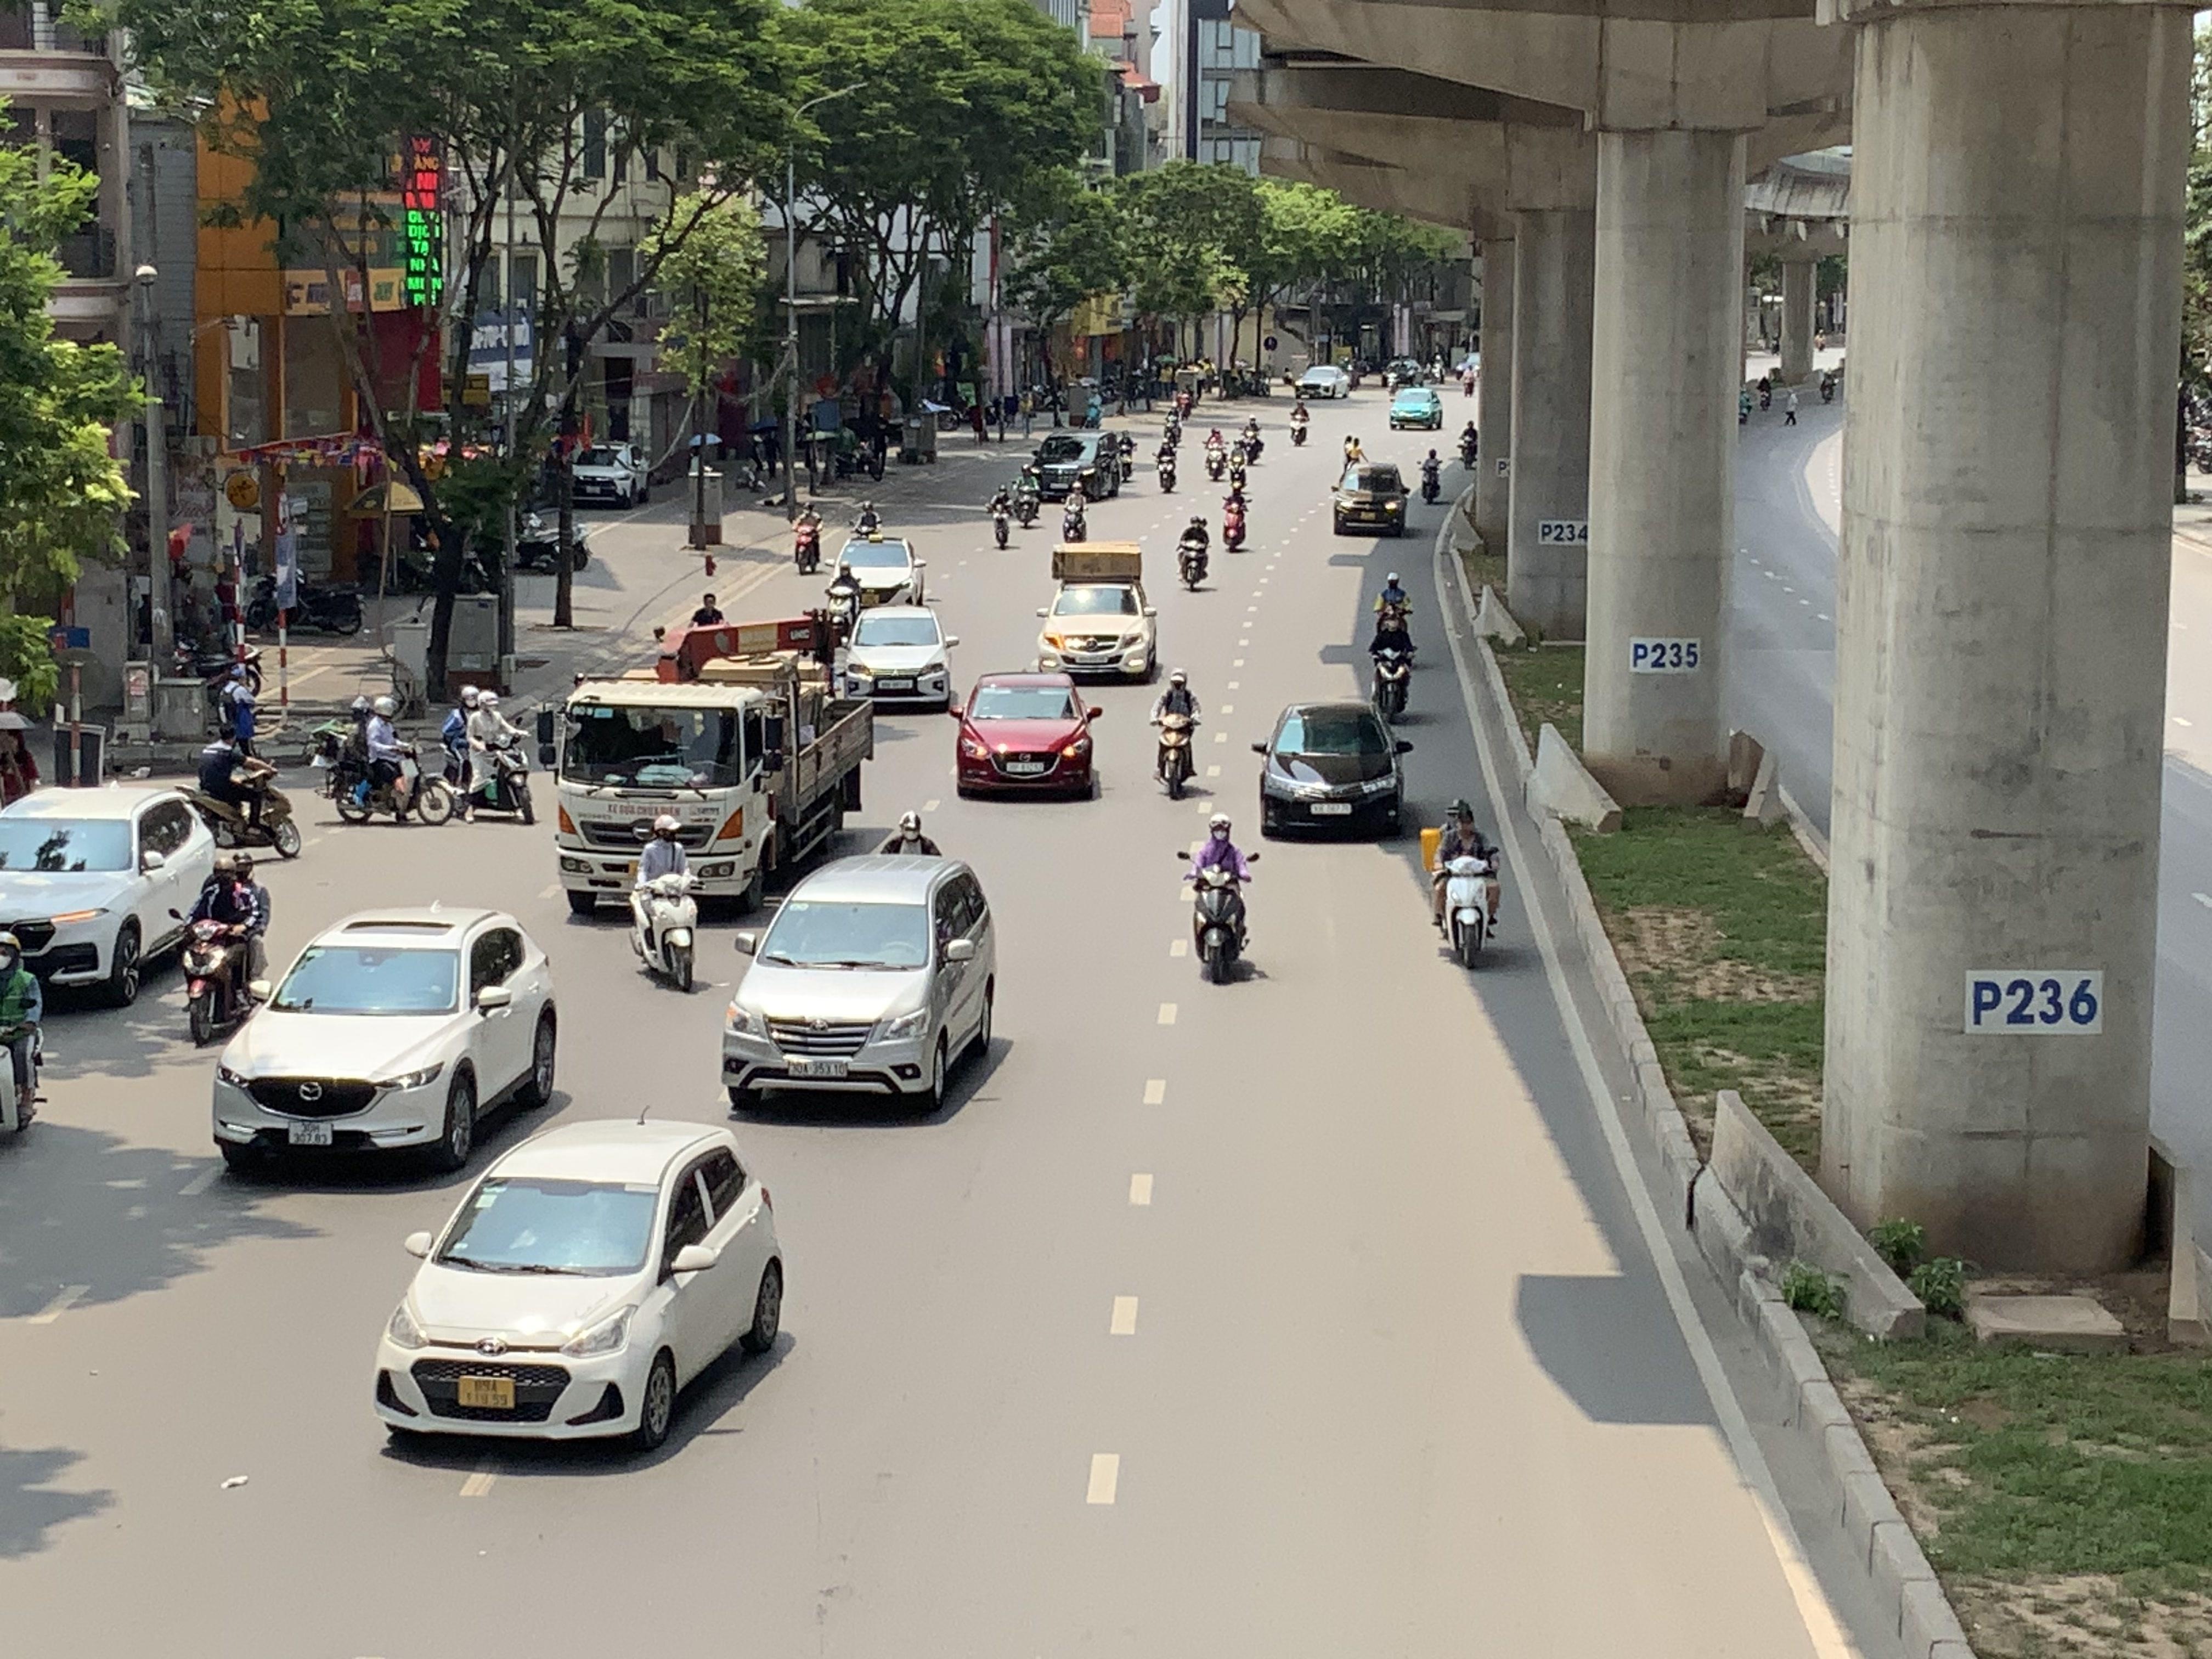BSD: (787, 1060, 848, 1077)
BSV: (458, 1375, 516, 1408), (289, 1124, 333, 1145)
car: (371, 1115, 789, 1457), (209, 904, 563, 1175), (721, 852, 1000, 1115), (0, 781, 223, 1006), (1251, 701, 1414, 840), (951, 671, 1104, 800), (1035, 570, 1163, 681), (836, 605, 960, 711), (836, 535, 928, 610), (1029, 429, 1123, 502), (1331, 462, 1409, 537), (570, 443, 651, 507), (1388, 385, 1444, 432), (1296, 362, 1350, 399)
motorbike: (176, 849, 270, 1047), (324, 695, 453, 826), (192, 723, 300, 859), (434, 687, 536, 824), (629, 814, 702, 993), (1426, 798, 1501, 969), (1183, 814, 1258, 985), (0, 925, 49, 1164), (1151, 669, 1202, 800), (1369, 610, 1416, 723), (824, 556, 864, 643), (1176, 511, 1212, 591), (1374, 573, 1414, 638), (791, 498, 824, 573), (1219, 477, 1251, 552), (1012, 464, 1043, 530), (1061, 481, 1090, 544), (1202, 422, 1230, 486), (989, 477, 1014, 549), (1155, 429, 1181, 493), (1418, 446, 1446, 504), (1238, 411, 1266, 469), (1289, 394, 1310, 446)
truck: (550, 650, 876, 917)
